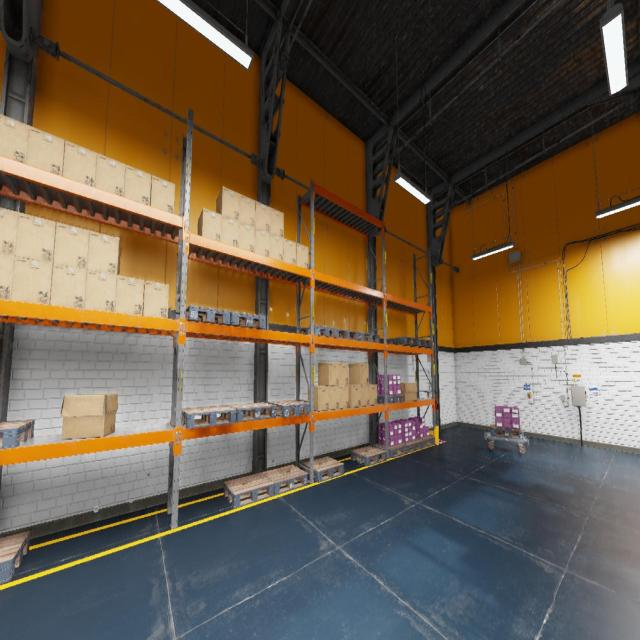box: (60, 394, 118, 439), (15, 212, 56, 263), (11, 256, 53, 304), (26, 126, 65, 176), (54, 222, 90, 269), (50, 263, 87, 308), (63, 140, 97, 187), (87, 230, 120, 275), (0, 114, 29, 163), (84, 270, 117, 312), (95, 153, 125, 196), (115, 275, 144, 315), (124, 165, 151, 205), (143, 280, 169, 318), (150, 175, 175, 213), (0, 207, 18, 255), (197, 208, 222, 242), (216, 186, 239, 221), (0, 253, 14, 299), (221, 215, 239, 247), (307, 385, 329, 411), (239, 194, 255, 227), (238, 222, 255, 252), (318, 362, 339, 386), (255, 201, 270, 232), (349, 384, 369, 407), (254, 228, 270, 256), (349, 363, 369, 385), (270, 208, 284, 238), (270, 233, 283, 261), (283, 238, 296, 265), (399, 382, 417, 400), (296, 243, 308, 268), (349, 384, 360, 407), (339, 385, 349, 409), (329, 386, 339, 410), (339, 363, 348, 385), (369, 384, 377, 405)
pallets: (224, 473, 274, 508), (0, 530, 30, 584), (262, 464, 307, 494), (182, 406, 236, 428), (303, 457, 344, 482), (0, 420, 34, 449), (227, 402, 276, 422), (186, 304, 230, 324), (268, 400, 310, 417), (351, 446, 386, 466), (228, 311, 266, 329), (374, 443, 408, 458), (490, 424, 524, 439), (300, 325, 338, 338), (322, 329, 359, 340), (401, 439, 422, 453), (352, 332, 380, 342), (388, 337, 419, 346), (377, 394, 404, 404), (416, 436, 435, 448), (412, 339, 431, 348)
